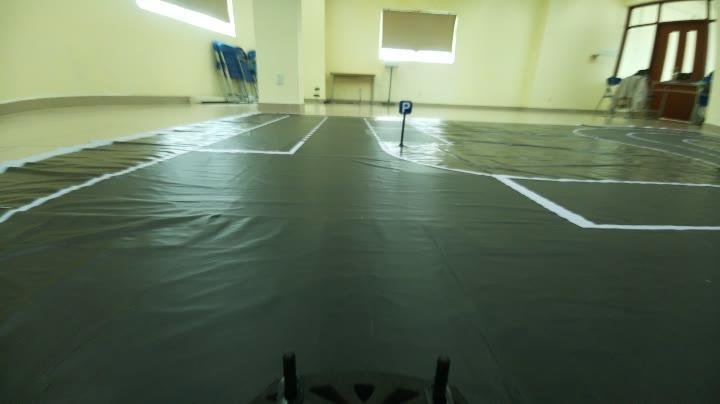parking: (392, 95, 415, 118)
